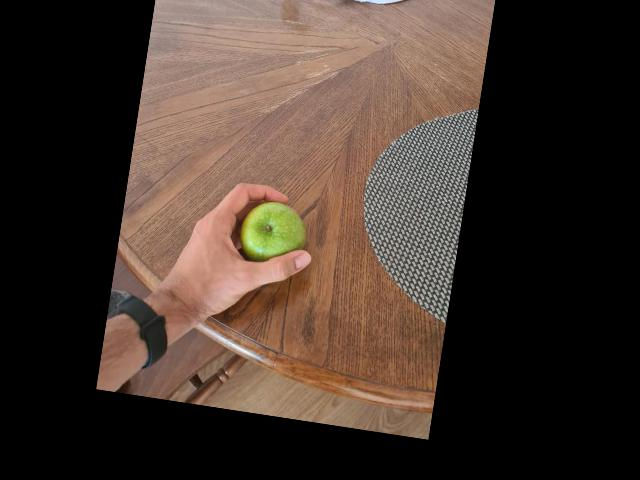apple: (240, 201, 314, 265)
